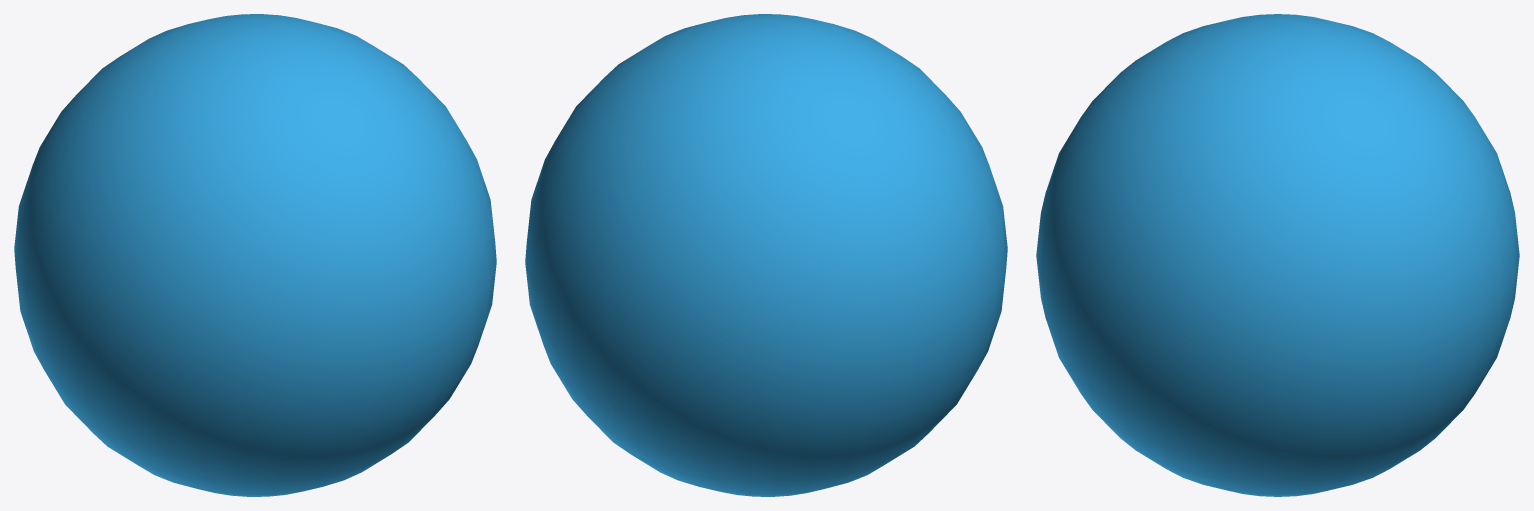
Rendered from chara_full_0102.fbx.
The picture shows the model from 3 angles, left to right: view 1: azimuth 30°, elevation 25°; view 2: azimuth 150°, elevation 25°; view 3: azimuth 270°, elevation 25°; orthographic projection.
Parts seen in each view (by area): view 1: Sphere; view 2: Sphere; view 3: Sphere.
Boxes of the visible parts, <box> form: Sphere: <box>14,14,496,496</box>; Sphere: <box>525,14,1007,496</box>; Sphere: <box>1036,14,1519,496</box>.
Size of the model in its own units: 229 by 229 by 229.
